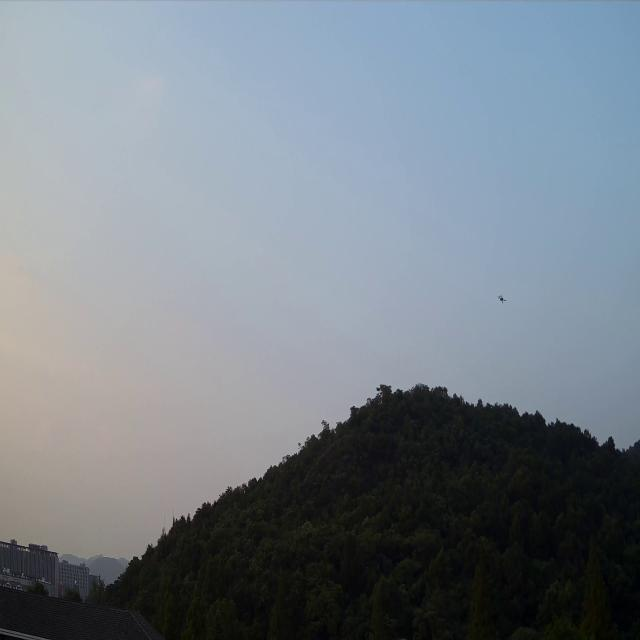UAV: (498, 294, 506, 304)
